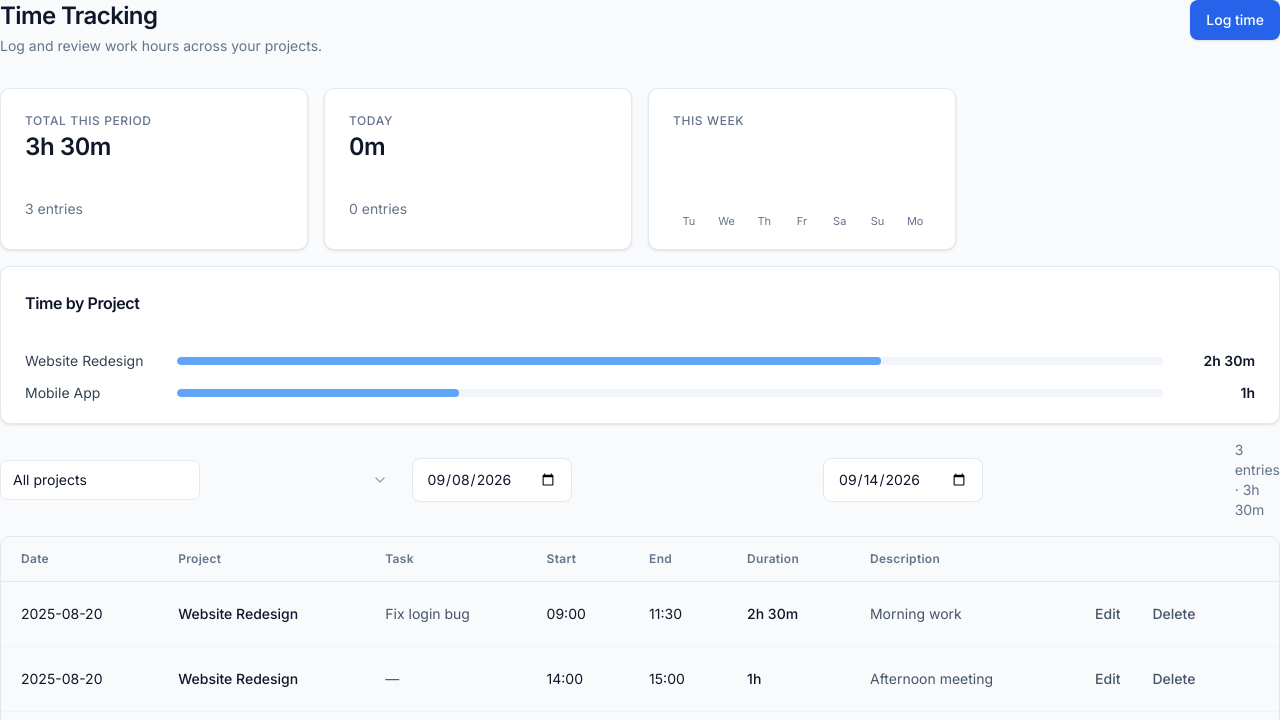
TimeTrackingPage › delete entry › opens delete confirmation modal
Expected: the text "Total This Period" is shown, [25,113,152,128]
What coordinates should you click on to do the following:
click the button "Delete" in the row of "Fix login bug"
I would click on:
 (1174, 614)
Its box is [1138,598,1209,630].
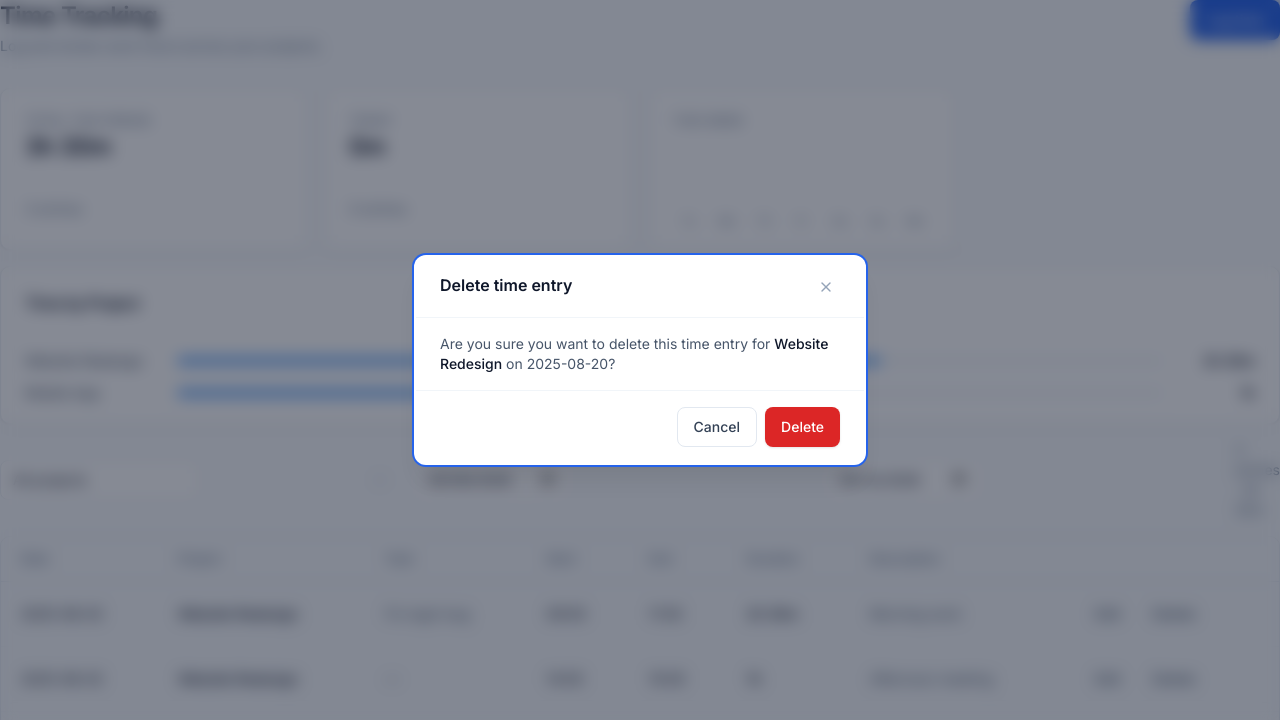
Result: the heading "Delete time entry" is shown at [440,273,572,297]
